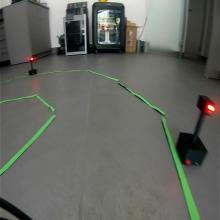red: (196, 94, 217, 116)
